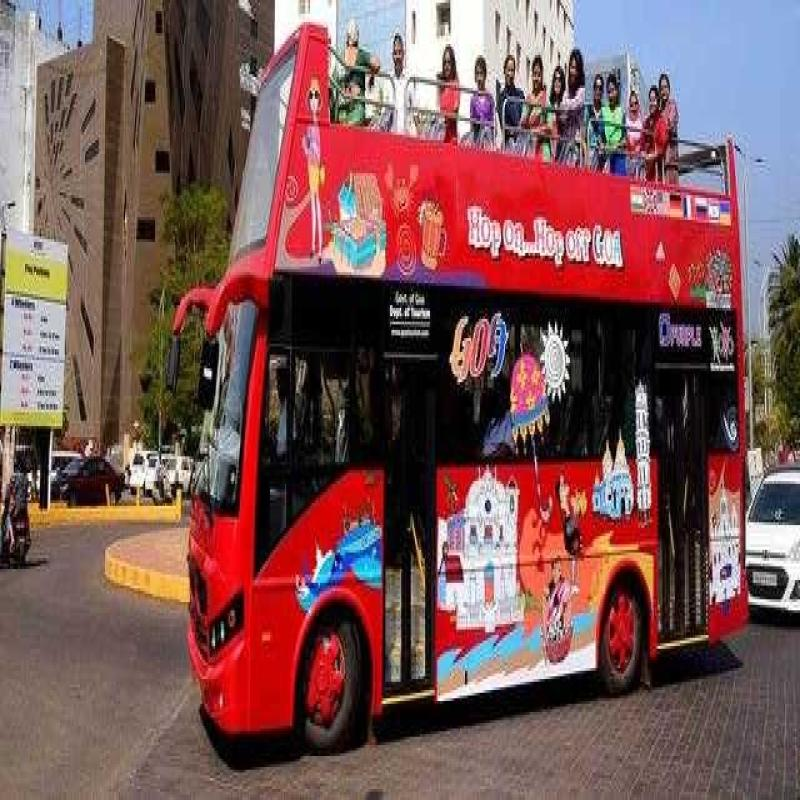bus: (188, 19, 764, 699)
